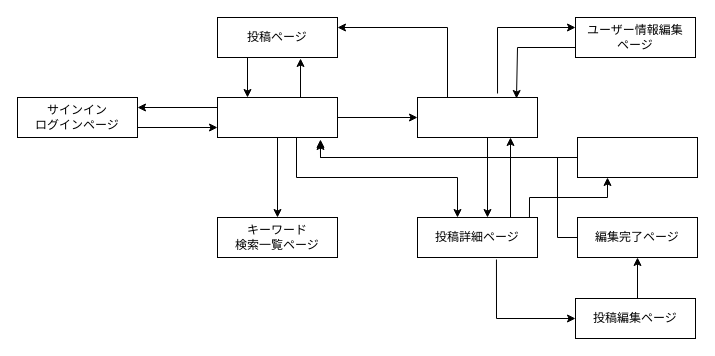
Image size: 715x356. Some labels were removed from this diagram. Each missing label, with the centre of its shape:
トップページ: pixel 277 117
ユーザーマイページ: pixel 477 117
投稿削除完了ページ: pixel 637 157
